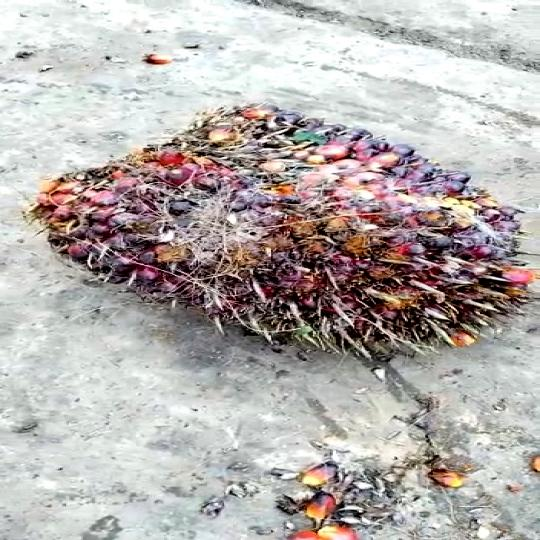masak: (25, 100, 540, 368)
